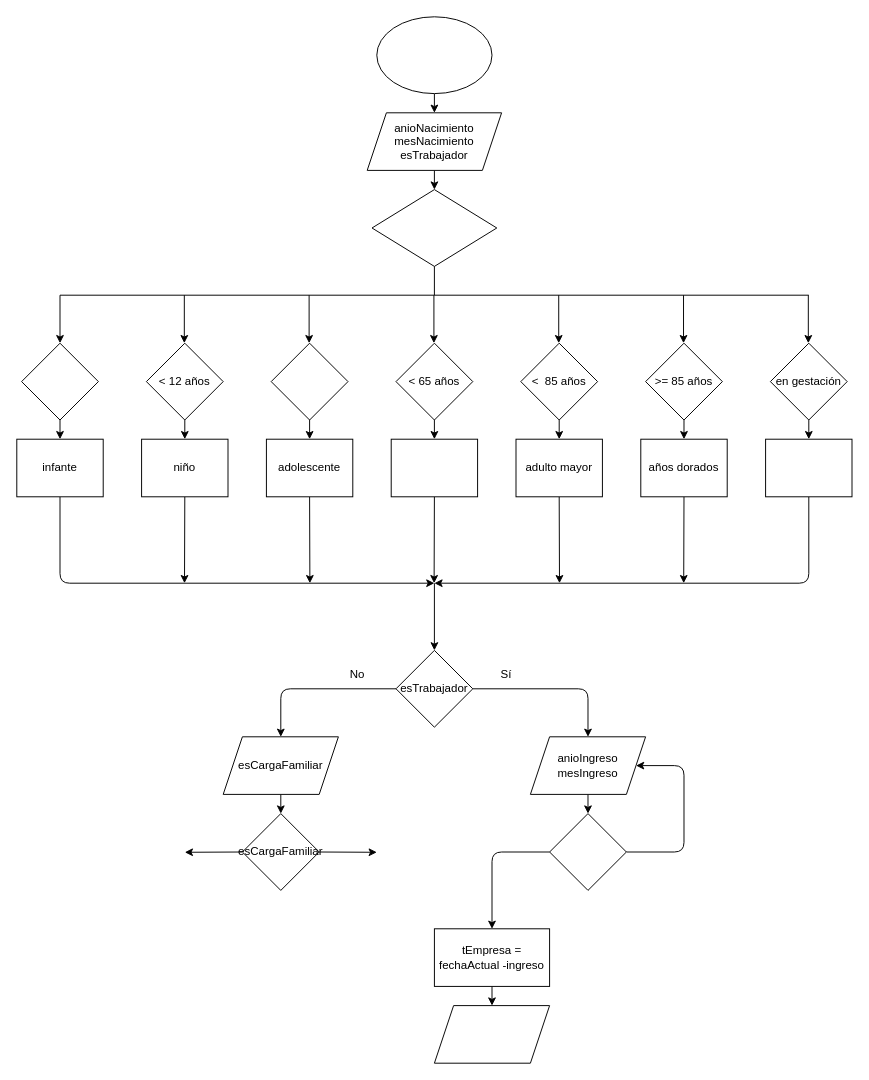
Some shapes in this 869 by 1080 pixel diagram are drawn without their labels. The shapes that lost their labels are listed below. From the top down, each one's centre as x and y in pixels, then its label:
At point (434, 55): "Inicio".
At point (434, 227): "anioNacimiento mesNacimiento".
At point (59, 381): "< 2 años".
At point (309, 381): "< 18 años".
At point (434, 467): "adulto".
At point (808, 467): "nonato".
At point (587, 851): "< fechaActual".
At point (491, 1034): "tEmpresa".
